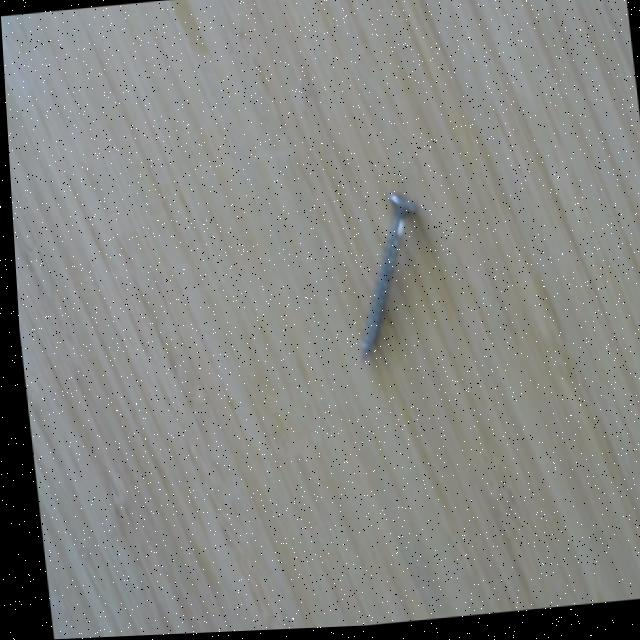Black screw: (334, 181, 435, 375)
